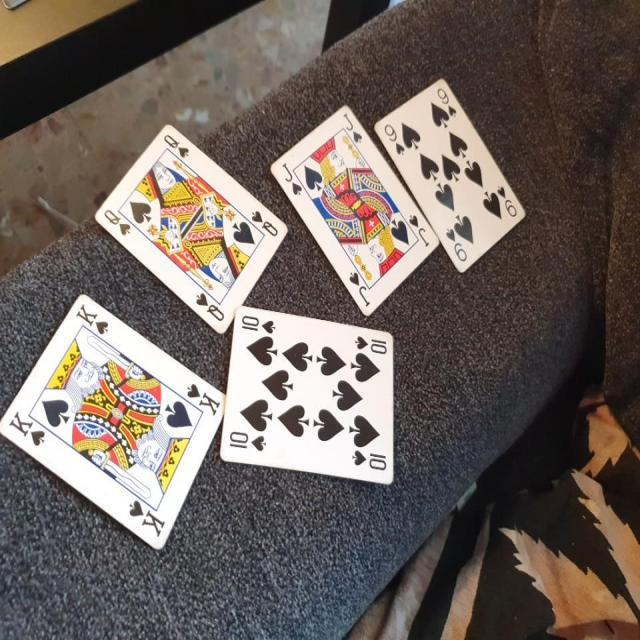10 of spades: (218, 304, 396, 494)
9 of spades: (362, 68, 532, 272)
jack of spades: (262, 94, 442, 321)
king of spades: (4, 290, 232, 564)
queen of spades: (97, 118, 290, 342)
